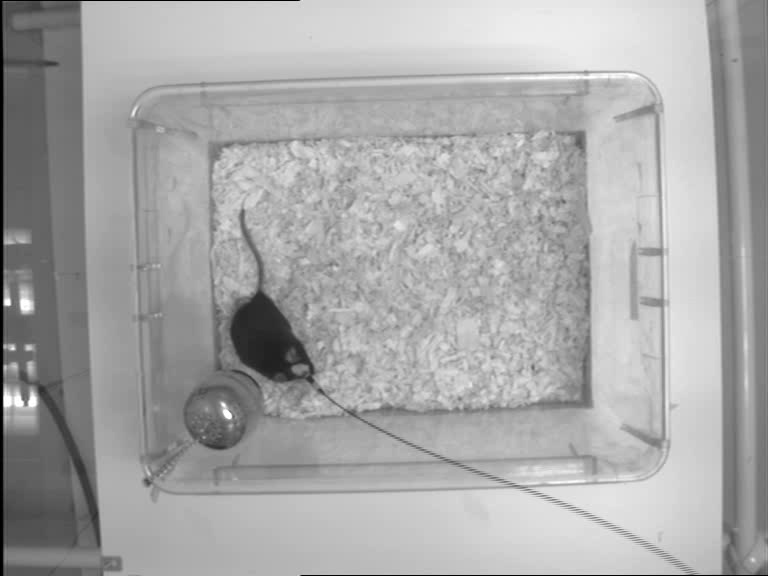mice: (234, 206, 317, 381)
